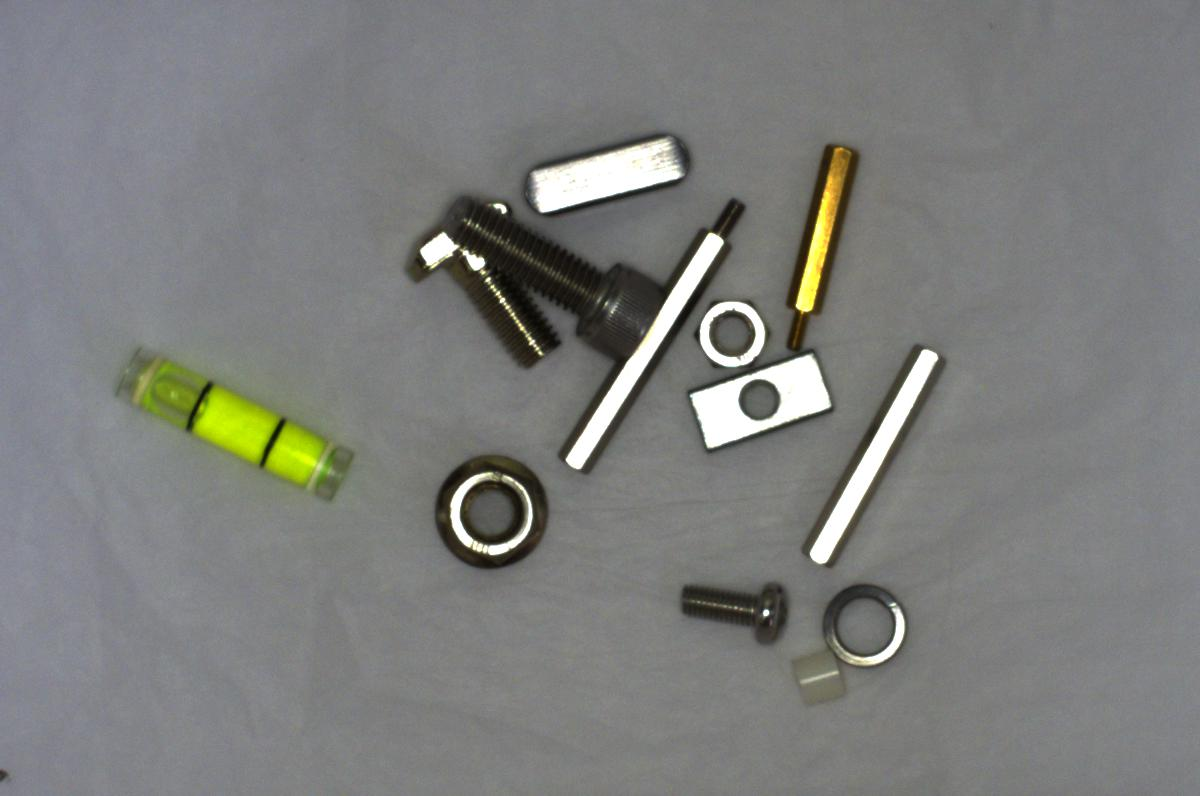Double hexagonal column: (792, 337, 956, 573)
Flange nut: (429, 442, 566, 578)
Hexagon nut: (692, 295, 775, 373)
Hexagon pillar: (775, 139, 880, 350)
Hexagon screw: (447, 198, 660, 356)
Hexagonal steel column: (544, 201, 752, 472)
Horizontal bubble: (91, 337, 370, 514)
Keybar: (528, 131, 691, 219)
Plastic cushion pillar: (775, 642, 857, 717)
Rectangular nut: (684, 353, 834, 460)
Round head screw: (671, 567, 794, 640)
Spring washer: (812, 573, 910, 672)
T-shaped screw: (402, 192, 562, 377)
